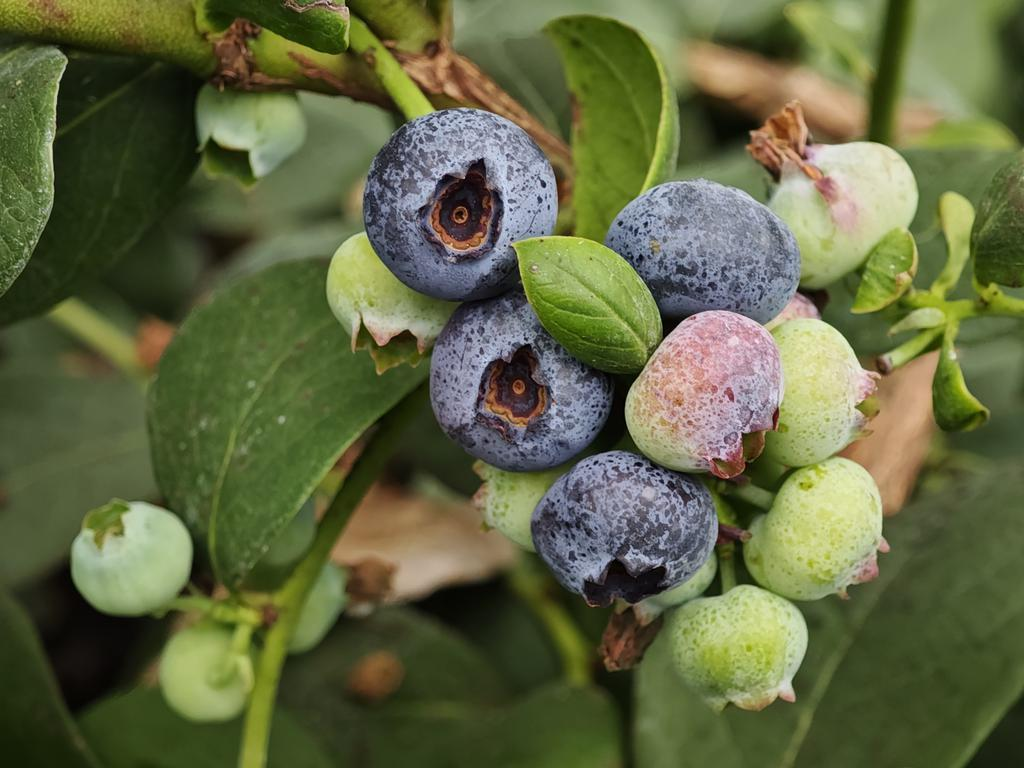RipeBlueBerry: (362, 107, 568, 299), (530, 451, 714, 608), (749, 454, 887, 594)
Semi-RipeBlueBerry: (624, 307, 786, 472)
